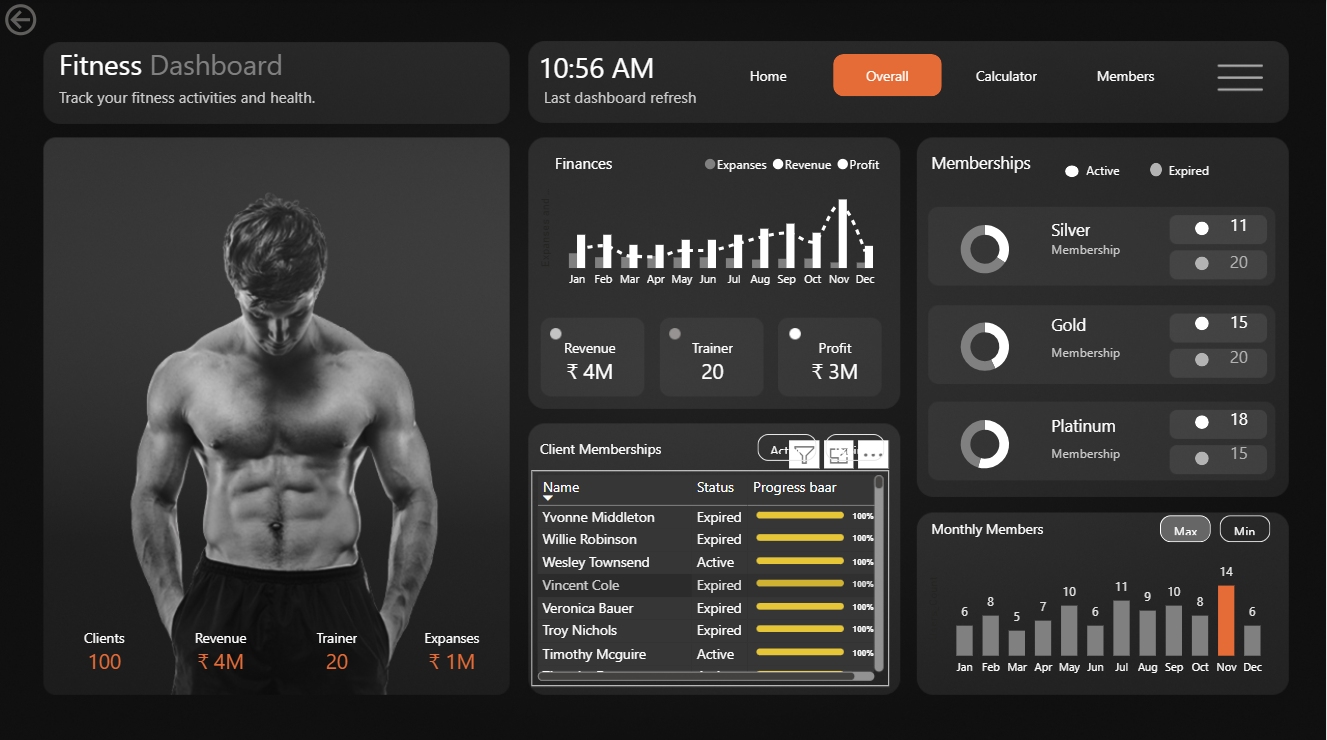

The page's visual inventory and layout, read from the dashboard file:
{"tool":"powerbi","page":{"name":"Overall","canvas":[1280,720],"ordinal":1},"visuals":[{"type":"cardVisual","fields":{"Data":["_Measure.Users_Count"]},"box":[50.9,582.2,100,80],"z":0},{"type":"cardVisual","fields":{"Data":["_Measure.Revenue"]},"box":[162.8,582.2,100,80],"z":1000},{"type":"cardVisual","fields":{"Data":["_Measure.Trainer"]},"box":[274.6,582.2,100,80],"z":2000},{"type":"cardVisual","fields":{"Data":["_Measure.Expanses"]},"box":[386.5,582.2,100,80],"z":3000},{"type":"cardVisual","fields":{"Data":["_Measure.Revenue"]},"box":[516.9,300.6,106,82],"z":4000},{"type":"cardVisual","fields":{"Data":["_Measure.Trainer"]},"box":[634.7,300.6,106,82],"z":5000},{"type":"cardVisual","fields":{"Data":["_Measure.Profit"]},"box":[752.4,300.6,106,82],"z":6000},{"type":"lineClusteredColumnComboChart","fields":{"Y":["_Measure.Expanses","_Measure.Revenue"],"Y2":["_Measure.Profit"],"Category":["Calender.MOnth"]},"box":[516.9,140,342,147.9],"z":7000},{"type":"shape","box":[536,140,60.4,36.6],"z":8000},{"type":"columnChart","fields":{"Y":["_Measure.Users_Count"],"Category":["Calender.MOnth"]},"box":[890.7,528.1,342,133.6],"z":9000},{"type":"shape","box":[898.7,493.1,122.5,35],"z":10000},{"type":"advancedSlicerVisual","fields":{"Values":["HighlightMode.Mode"]},"box":[1115,493.1,117.7,36.6],"z":11000},{"type":"tableEx","fields":{"Values":["Users.UserName","Users.Status","_Measure.SVG_BarChart1"]},"box":[513.3,455,345,208.3],"z":12000},{"type":"actionButton","box":[0,0,100,40],"z":13000},{"type":"advancedSlicerVisual","fields":{"Values":["Users.Status"]},"box":[726.7,415,133.3,36.7],"z":14000},{"type":"shape","box":[521.7,416.7,131.7,35],"z":15000},{"type":"shape","box":[1015,203.3,91,36],"z":16000},{"type":"shape","box":[1015,295,91,36],"z":17000},{"type":"shape","box":[1015,393.3,91,36],"z":18000},{"type":"shape","box":[1015,223.3,91.7,36.7],"z":19000},{"type":"shape","box":[1015,322.2,91,36],"z":20000},{"type":"shape","box":[1015,420.3,91,36],"z":21000},{"type":"donutChart","fields":{"Y":["_Measure.Platinum_Active","_Measure.Platinum_Expired"]},"box":[902.8,395.6,96.7,68.3],"z":22000},{"type":"donutChart","fields":{"Y":["_Measure.Gold_Active","_Measure.Gold_Expired"]},"box":[902.8,301.4,96.7,68.3],"z":23000},{"type":"donutChart","fields":{"Y":["_Measure.Silver_Active","_Measure.Silver_Expired"]},"box":[902.8,207.2,96.7,68.3],"z":24000},{"type":"cardVisual","fields":{"Data":["_Measure.Silver_Active"]},"box":[1166.7,198.3,58.3,41.7],"z":25000},{"type":"cardVisual","fields":{"Data":["_Measure.Trainer"]},"box":[1166.7,233.3,58.3,41.7],"z":26000},{"type":"cardVisual","fields":{"Data":["_Measure.Gold_Active"]},"box":[1166.7,291.1,58.3,41.7],"z":27000},{"type":"cardVisual","fields":{"Data":["_Measure.Gold_Expired"]},"box":[1166.7,324.4,58.3,41.7],"z":28000},{"type":"cardVisual","fields":{"Data":["_Measure.Platinum_Active"]},"box":[1166.7,384.4,58.3,41.7],"z":29000},{"type":"cardVisual","fields":{"Data":["_Measure.Platinum_Expired"]},"box":[1166.7,417.8,58.3,41.7],"z":30000},{"type":"shape","box":[898.3,140,116.7,35],"z":31000},{"type":"shape","box":[1048.9,155,53.3,20],"z":32000},{"type":"shape","box":[1128.3,155,53.3,20],"z":33000},{"type":"shape","box":[1153.3,215,13.3,13.3],"z":34000},{"type":"shape","box":[1153.3,248.3,13.3,13.3],"z":35000},{"type":"shape","box":[1153.3,306.7,13.3,13.3],"z":36000},{"type":"shape","box":[1153.3,341.7,13.3,13.3],"z":37000},{"type":"shape","box":[1153.3,401.7,13.3,13.3],"z":38000},{"type":"shape","box":[1153.3,436.7,13.3,13.3],"z":39000},{"type":"shape","box":[1028.3,160,13.3,11.7],"z":40000},{"type":"shape","box":[1109.4,158.3,11.7,13.3],"z":41000},{"type":"textbox","box":[51.7,40,273.3,51.7],"z":42000},{"type":"textbox","box":[51.7,80,273.3,30],"z":43000},{"type":"image","box":[1161.7,45,73.3,65],"z":44000},{"type":"shape","box":[516.7,45,158.3,46.7],"z":45000},{"type":"textbox","box":[520,80,273.3,30],"z":46000},{"type":"pageNavigator","box":[688.3,53.3,451.7,41.7],"z":47000}]}

Visuals, with their boxes in screenshot pixels (x1, y1, x2, y2), scaled from the page's 1280x720 canvas onto the 1327x740 screenshot:
cardVisual - _Measure.Users_Count: locate(53, 598, 156, 681)
cardVisual - _Measure.Revenue: locate(169, 598, 272, 681)
cardVisual - _Measure.Trainer: locate(285, 598, 388, 681)
cardVisual - _Measure.Expanses: locate(401, 598, 504, 681)
cardVisual - _Measure.Revenue: locate(536, 309, 646, 393)
cardVisual - _Measure.Trainer: locate(658, 309, 768, 393)
cardVisual - _Measure.Profit: locate(780, 309, 890, 393)
lineClusteredColumnComboChart - _Measure.Expanses x _Measure.Revenue: locate(536, 144, 890, 296)
shape: locate(556, 144, 618, 182)
columnChart - _Measure.Users_Count x Calender.MOnth: locate(923, 543, 1278, 680)
shape: locate(932, 507, 1059, 543)
advancedSlicerVisual - HighlightMode.Mode: locate(1156, 507, 1278, 544)
tableEx - Users.UserName x Users.Status: locate(532, 468, 890, 682)
actionButton: locate(0, 0, 104, 41)
advancedSlicerVisual - Users.Status: locate(753, 427, 892, 464)
shape: locate(541, 428, 677, 464)
shape: locate(1052, 209, 1147, 246)
shape: locate(1052, 303, 1147, 340)
shape: locate(1052, 404, 1147, 441)
shape: locate(1052, 230, 1147, 267)
shape: locate(1052, 331, 1147, 368)
shape: locate(1052, 432, 1147, 469)
donutChart - _Measure.Platinum_Active x _Measure.Platinum_Expired: locate(936, 407, 1036, 477)
donutChart - _Measure.Gold_Active x _Measure.Gold_Expired: locate(936, 310, 1036, 380)
donutChart - _Measure.Silver_Active x _Measure.Silver_Expired: locate(936, 213, 1036, 283)
cardVisual - _Measure.Silver_Active: locate(1210, 204, 1270, 247)
cardVisual - _Measure.Trainer: locate(1210, 240, 1270, 283)
cardVisual - _Measure.Gold_Active: locate(1210, 299, 1270, 342)
cardVisual - _Measure.Gold_Expired: locate(1210, 333, 1270, 376)
cardVisual - _Measure.Platinum_Active: locate(1210, 395, 1270, 438)
cardVisual - _Measure.Platinum_Expired: locate(1210, 429, 1270, 472)
shape: locate(931, 144, 1052, 180)
shape: locate(1087, 159, 1143, 180)
shape: locate(1170, 159, 1225, 180)
shape: locate(1196, 221, 1209, 235)
shape: locate(1196, 255, 1209, 269)
shape: locate(1196, 315, 1209, 329)
shape: locate(1196, 351, 1209, 365)
shape: locate(1196, 413, 1209, 427)
shape: locate(1196, 449, 1209, 462)
shape: locate(1066, 164, 1080, 176)
shape: locate(1150, 163, 1162, 176)
textbox: locate(54, 41, 337, 94)
textbox: locate(54, 82, 337, 113)
image: locate(1204, 46, 1280, 113)
shape: locate(536, 46, 700, 94)
textbox: locate(539, 82, 822, 113)
pageNavigator: locate(714, 55, 1182, 98)
